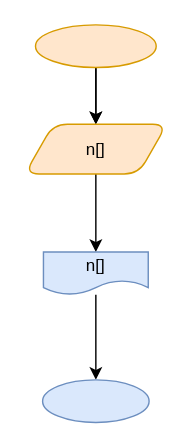
Some shapes in this 192 by 447 pixel diagram are drawn without their labels. The centre of each missing label's shape, as x and y in pixels:
"end" belongs at (x=95, y=400).
"Start" belongs at (x=95, y=45).
